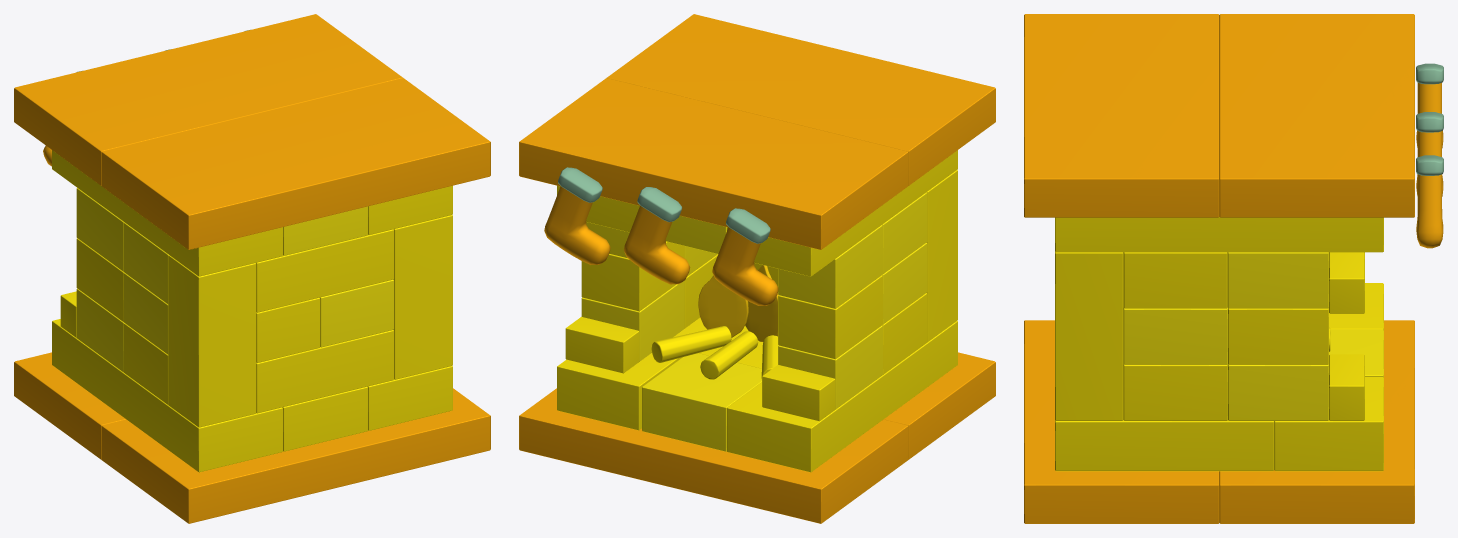
The model's file is level_169.fbx.
3 views of the same model, side by side, from view 1: azimuth 30°, elevation 25°; view 2: azimuth 150°, elevation 25°; view 3: azimuth 270°, elevation 25° (orthographic). The views are drawn at different scales.
Visible parts, largest first — view 1: Cube_L1_1, Cube_L1, Cube_L1_3, Cube_L4_12, Cube_L2_10, Cube_L4_7, Cube_L4_10, Cube_L4_9, Cube_L2_9, Cube_L1_2, Cube_L2_2, Cube_L2_4 (+11 smaller); view 2: Cube_L1, Cube_L1_1, Cube_L1_2, Cube_L2_10, Cube_L2_5, Cube_L4_15, Cube_L1_3, Cube_L2, Cube_L4_12, Cube_L2_9, Cube_L4_13, Cube_L2_6 (+19 smaller); view 3: Cube_L1, Cube_L1_1, Cube_L1_2, Cube_L1_3, Cube_L2_1, Cube_L4_7, Cube_L2_2, Cube_L2, Cube_L4_5, Cube_L4_1, Cube_L4_6, Cube_L4_3 (+9 smaller).
Part boxes in pixels (<box>): Cube_L1_1: <box>101,78,490,249</box>; Cube_L1: <box>14,14,402,185</box>; Cube_L1_3: <box>101,388,490,523</box>; Cube_L4_12: <box>168,255,256,427</box>; Cube_L2_10: <box>52,319,282,472</box>; Cube_L4_7: <box>393,215,452,379</box>; Cube_L4_10: <box>256,229,394,312</box>; Cube_L4_9: <box>256,330,394,413</box>; Cube_L2_9: <box>52,150,282,276</box>; Cube_L1_2: <box>14,352,125,459</box>; Cube_L2_2: <box>367,366,452,430</box>; Cube_L2_4: <box>282,387,367,451</box>; Cube_L1: <box>519,78,908,249</box>; Cube_L1_1: <box>607,14,995,185</box>; Cube_L1_2: <box>519,388,908,523</box>; Cube_L2_10: <box>727,321,957,472</box>; Cube_L2_5: <box>642,353,761,451</box>; Cube_L4_15: <box>778,275,882,359</box>; Cube_L1_3: <box>884,352,995,459</box>; Cube_L2: <box>557,353,682,430</box>; Cube_L4_12: <box>926,170,957,342</box>; Cube_L2_9: <box>727,150,957,276</box>; Cube_L4_13: <box>778,225,882,308</box>; Cube_L2_6: <box>712,208,778,305</box>; Cube_L1: <box>1219,14,1414,217</box>; Cube_L1_1: <box>1024,14,1219,217</box>; Cube_L1_2: <box>1219,320,1414,523</box>; Cube_L1_3: <box>1024,320,1219,523</box>; Cube_L2_1: <box>1055,217,1383,252</box>; Cube_L4_7: <box>1055,252,1123,420</box>; Cube_L2_2: <box>1055,420,1274,471</box>; Cube_L2: <box>1274,377,1383,471</box>; Cube_L4_5: <box>1123,278,1227,364</box>; Cube_L4_1: <box>1123,252,1227,308</box>; Cube_L4_6: <box>1123,364,1227,420</box>; Cube_L4_3: <box>1227,252,1328,308</box>.
Bounding box in the file's own units: 13.04 × 12.72 × 14.01.
